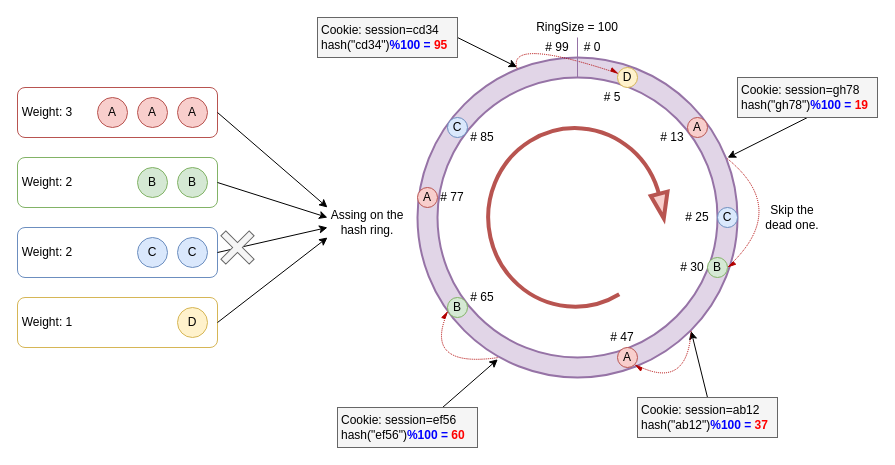
The diagram is 895 pixels wide and 465 high, and some of its shapes have lost their labels. The shapes that lost their labels are listed below. From the top down, each one's centre as x and y in pixels, then its label:
point 577,217: Search active upstream clockwise.
point 237,247: Dead
